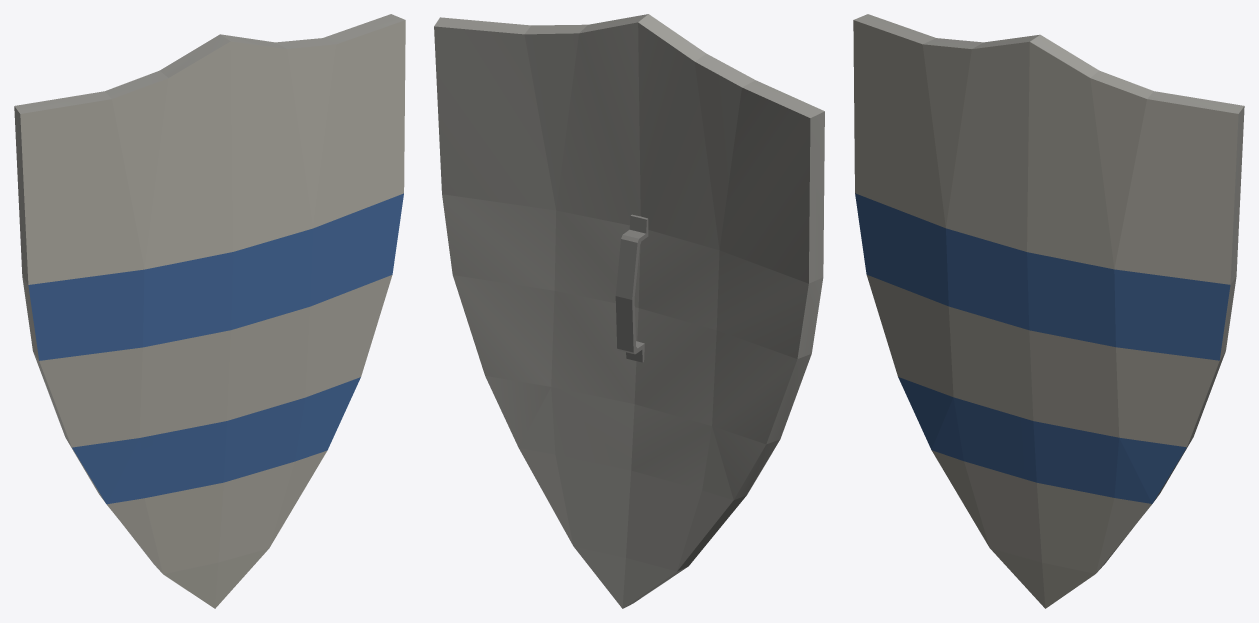
Rendered from SM_pwe_medieval_shield_07b.fbx.
3 views of the same model, side by side, from view 1: azimuth 30°, elevation 25°; view 2: azimuth 150°, elevation 25°; view 3: azimuth 330°, elevation 25° (orthographic).
Visible parts, largest first — view 1: SM_pwe_medieval_shield_07b; view 2: SM_pwe_medieval_shield_07b; view 3: SM_pwe_medieval_shield_07b.
Part boxes in pixels (<box>): SM_pwe_medieval_shield_07b: <box>14,14,405,608</box>; SM_pwe_medieval_shield_07b: <box>434,14,824,608</box>; SM_pwe_medieval_shield_07b: <box>853,14,1244,608</box>.
Size of the model in its own units: 63.01 by 90.45 by 8.5.
